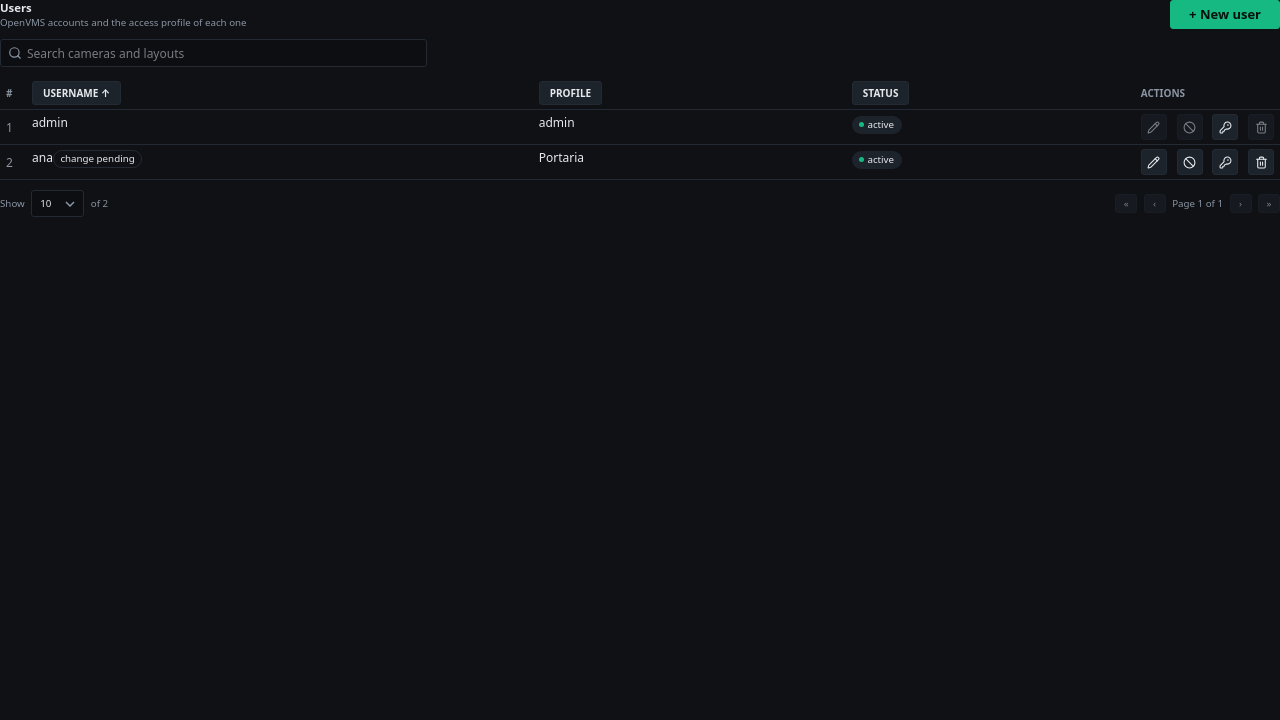
Test case: UsersTable (spec 2026-10-18 4.3; server-side since 2026-10-20 §5) › the "+ New user" button opens the form
expect the text "ana" is shown: met, box [32,149,53,166]
Step 1. Click the button "+ New user" → (1225, 15), box [1170,0,1279,29]
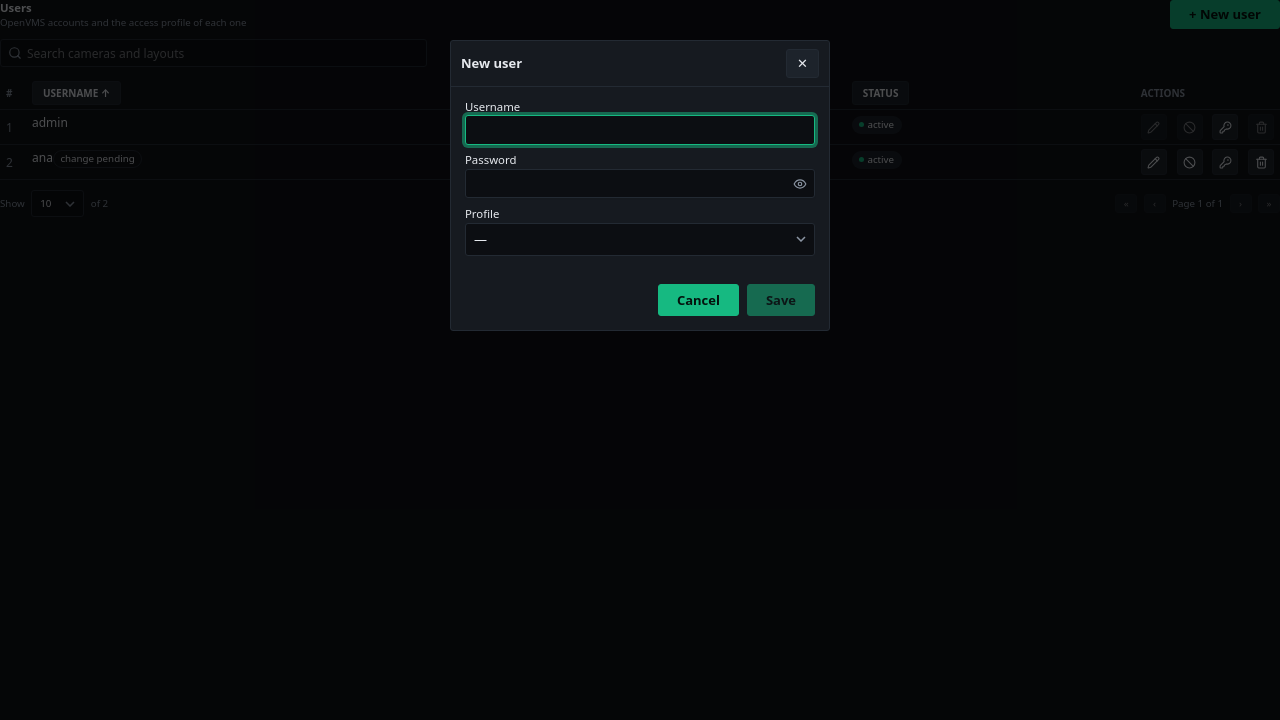
expect the dialog "New user" is shown: met, box [450,40,830,331]
expect the password field labelled "Password" is shown: met, box [465,169,815,198]
